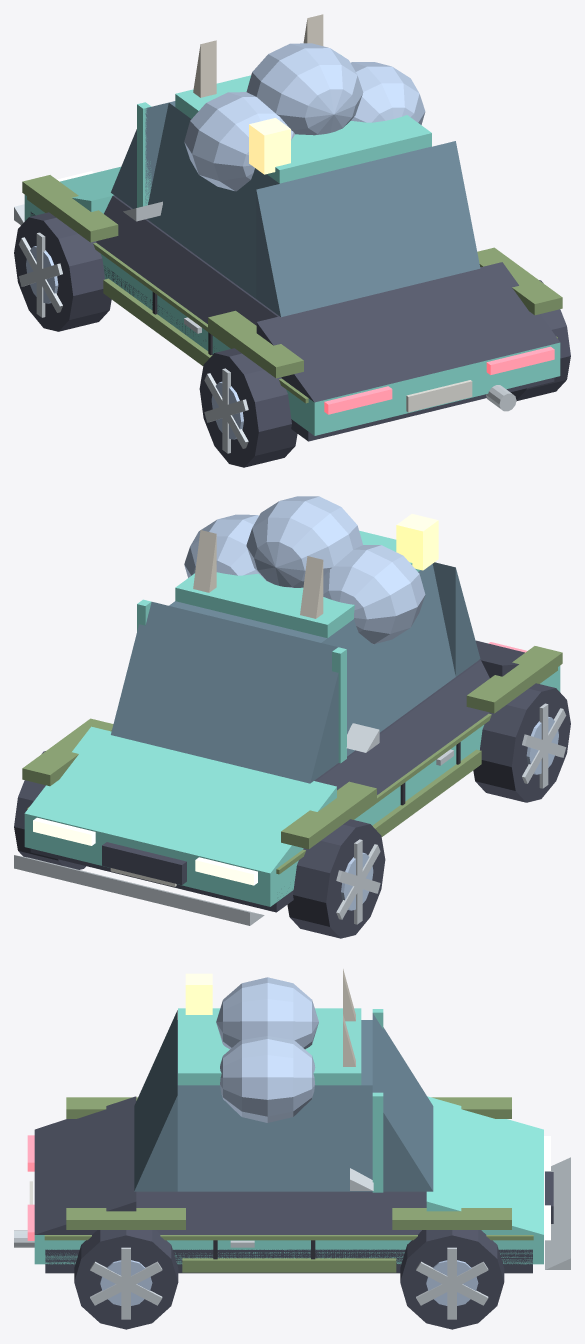
Rendered from cloud_camel.glb.
3 renders of one model, top to bottom at view 1: azimuth 30°, elevation 25°; view 2: azimuth 150°, elevation 25°; view 3: azimuth 270°, elevation 25°, orthographic. The views are drawn at different scales.
Visible parts, largest first — view 1: RearWindow.218, Tail.118, CabinSideL.115, Body.318, CloudCap1.008, ShoulderL.115, Roof.318, Wheel_RL.258, Wheel_FL.258, CloudCap0.008, CloudCap2.008, Arch-1False.174 (+20 smaller); view 2: Windshield.218, Nose.115, CabinSideL.115, Body.318, ShoulderL.115, CloudCap1.008, CloudCap0.008, Wheel_FL.258, Wheel_RL.258, Roof.318, Bumper.314, Arch-1True.174 (+24 smaller); view 3: CabinSideR.115, Nose.115, Tail.118, ShoulderR.115, Windshield.218, CloudCap2.008, Roof.318, Wheel_FR.258, Wheel_RR.258, RearWindow.218, CloudCap1.008, Body.318 (+20 smaller).
Boxes of the visible parts, x1,y1,x2,y2 form: RearWindow.218: (256,141,480,317); Tail.118: (256,262,560,402); CabinSideL.115: (147,103,279,298); Body.318: (24,195,560,435); CloudCap1.008: (246,43,363,135); ShoulderL.115: (96,196,277,325); Roof.318: (175,75,431,183); Wheel_RL.258: (199,348,297,467); Wheel_FL.258: (14,212,111,331); CloudCap0.008: (184,92,294,191); CloudCap2.008: (350,62,425,124); Arch-1False.174: (22,175,118,242); Windshield.218: (111,602,338,783); Nose.115: (24,726,336,873); CabinSideL.115: (321,564,455,756); Body.318: (24,666,560,906); ShoulderL.115: (316,660,489,794); CloudCap1.008: (246,496,362,587); CloudCap0.008: (323,545,425,644); Wheel_FL.258: (287,819,385,938); Wheel_RL.258: (473,683,570,802); Roof.318: (175,530,420,638); Bumper.314: (14,855,264,925); Arch-1True.174: (466,646,562,713); CabinSideR.115: (177,1085,372,1191); Nose.115: (426,1096,543,1234); Tail.118: (34,1096,136,1234); ShoulderR.115: (136,1192,426,1234); Windshield.218: (372,1013,433,1191); CloudCap2.008: (220,1036,315,1122); Roof.318: (178,1008,361,1085); Wheel_FR.258: (400,1230,504,1329); Wheel_RR.258: (74,1230,178,1329); RearWindow.218: (134,1010,177,1191); CloudCap1.008: (216,977,318,1049); Body.318: (34,1235,543,1264).
Bounding box in the file's own units: 3 × 2.85 × 5.14.
